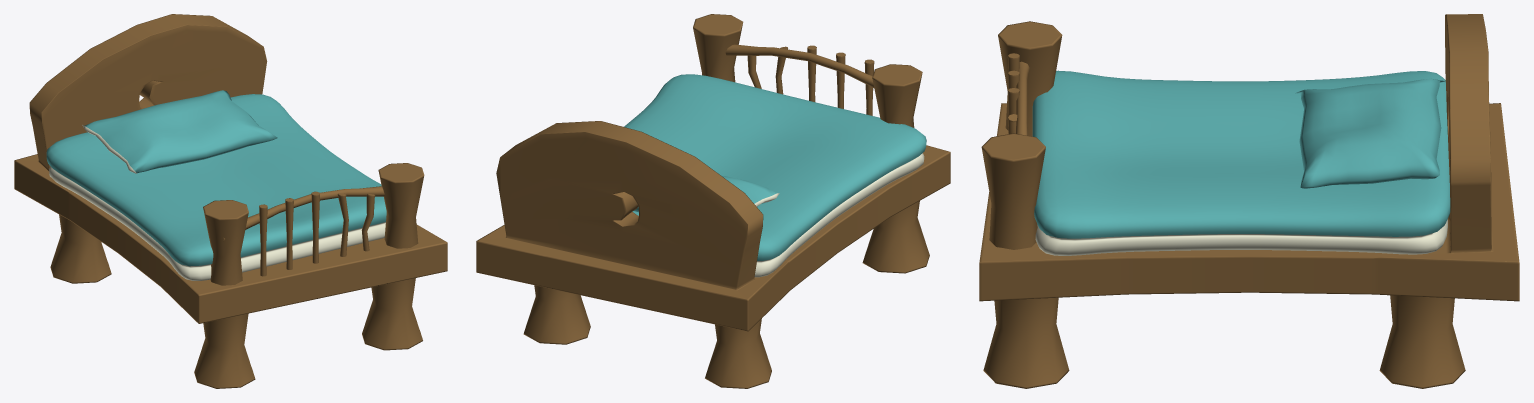
The model's file is cartoon bed 02.fbx.
The picture shows the model from 3 angles, left to right: view 1: azimuth 30°, elevation 25°; view 2: azimuth 150°, elevation 25°; view 3: azimuth 270°, elevation 25°; orthographic projection. The views are drawn at different scales.
Visible parts, largest first — view 1: cartoon_bed_02; view 2: cartoon_bed_02; view 3: cartoon_bed_02.
Part boxes in pixels (<box>): cartoon_bed_02: <box>14,14,447,388</box>; cartoon_bed_02: <box>476,14,950,388</box>; cartoon_bed_02: <box>979,14,1519,388</box>.
Bounding box in the file's own units: 4.19 × 3.5 × 6.
